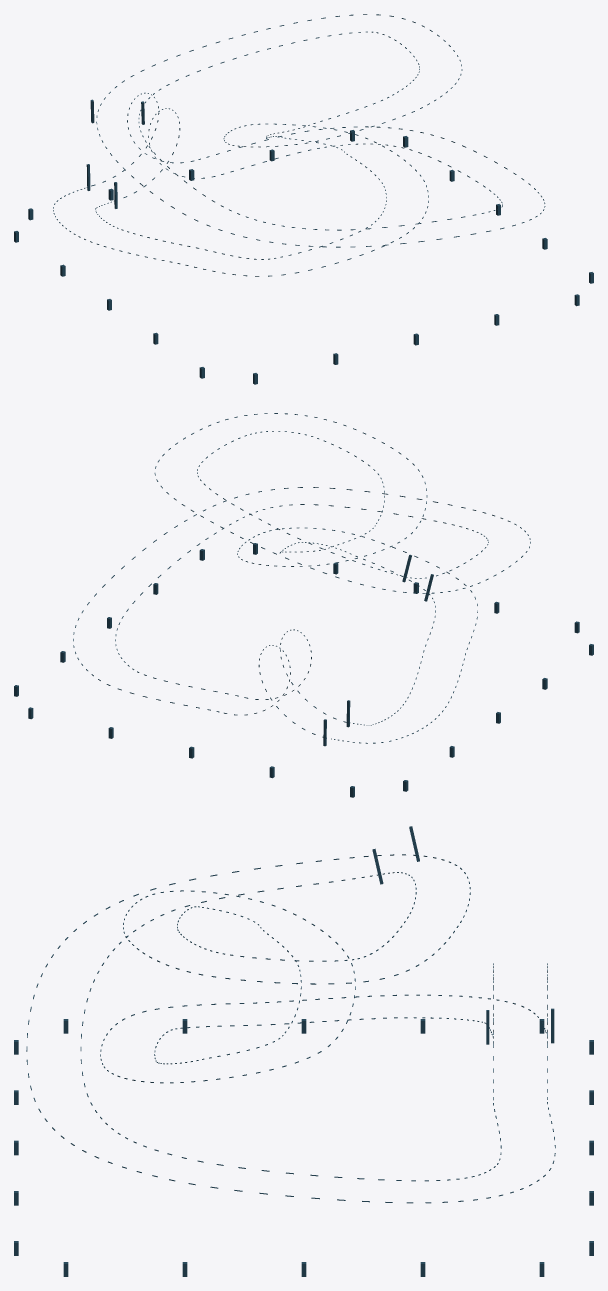
Rendered from circuit-part-1.glb.
The picture shows the model from 3 angles, top to bottom: view 1: azimuth 30°, elevation 25°; view 2: azimuth 150°, elevation 25°; view 3: azimuth 270°, elevation 25°; orthographic projection. The views are drawn at different scales.
Parts seen in each view (by area): view 1: track-part-0; view 2: track-part-0; view 3: track-part-0.
Boxes of the visible parts, box(x1,y1,x2,y2) form: track-part-0: box(14, 14, 593, 384); track-part-0: box(14, 413, 593, 797); track-part-0: box(14, 826, 593, 1276).
Bounding box in the file's own units: 26.82 × 12.94 × 26.82.
